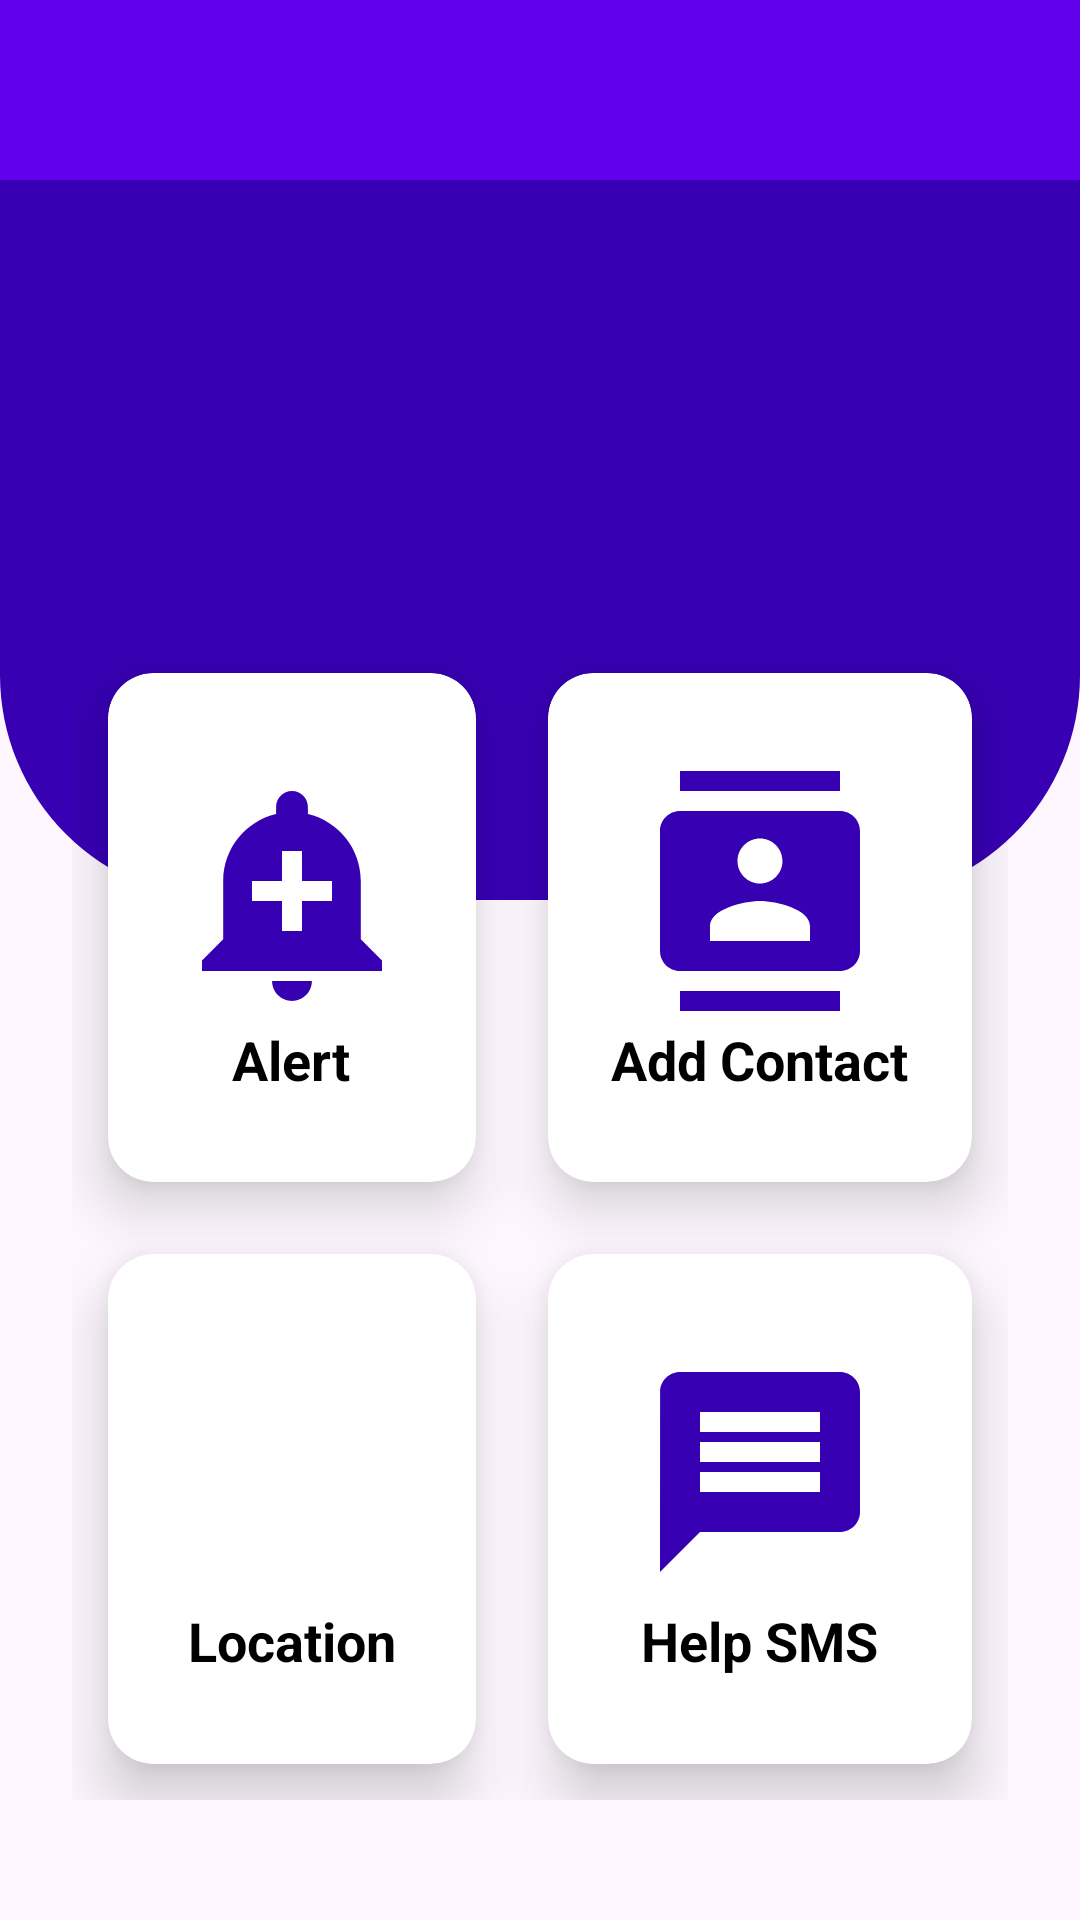

Icons on this 1080×1920 Android screen, each with its box as (x1, y1, x2, y2):
contacts: (660, 771, 860, 1011)
message: (660, 1372, 860, 1572)
